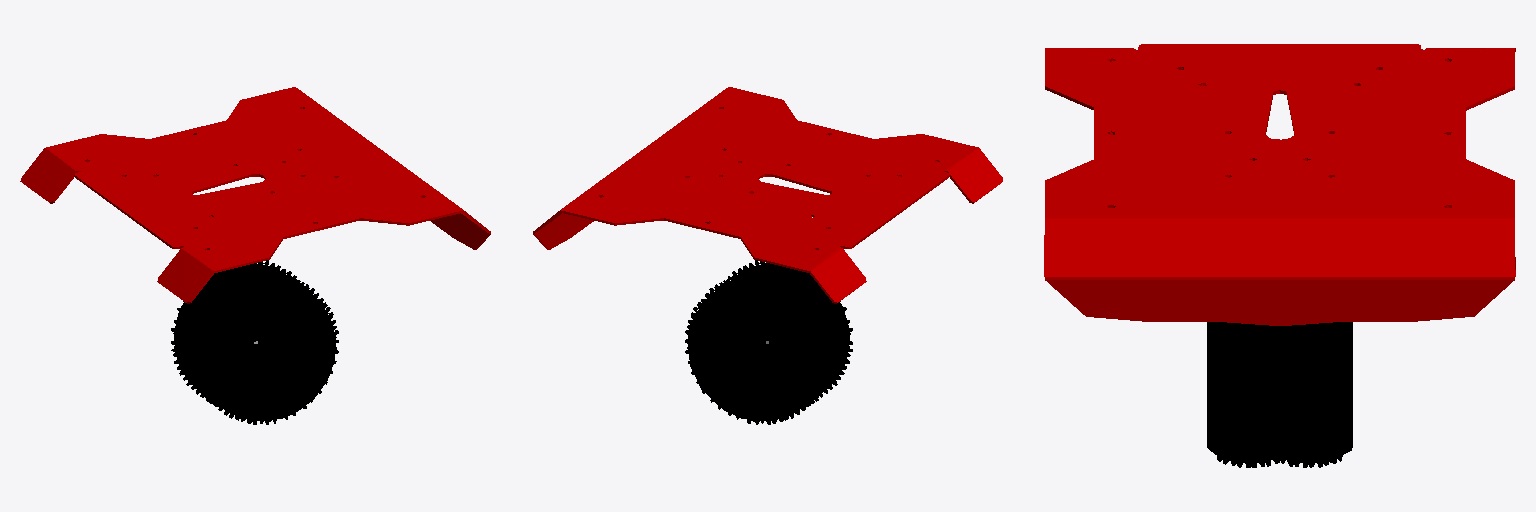
robot.urdf — rosbot:
<?xml version="1.0" ?>
<robot name="rosbot">
  
  <link name="base_link">
    <visual name="base_link_visual">
      <origin rpy=" 1.5707 0 1.5707" xyz="0 0 0.1"/>
      <geometry>
        <mesh filename="package://autopilot/models/upper.dae" scale="0.001 0.001 0.001"/>
      </geometry>
    </visual>
  </link>

  <joint name="front_left_wheel_hinge" type="continuous">
    <!-- <origin rpy="0 0 0" xyz="0.05 0.11 0"/> -->
    <child link="front_left_wheel"/>
    <parent link="base_link"/>
    <!-- <axis rpy="0 0 0" xyz="0 1 0"/> -->
    <!-- <limit effort="1" velocity="10"/> -->
    <!-- <joint_properties damping="5.0" friction="1.0"/> -->
  </joint>

  <link name="front_left_wheel">
    <visual name="front_left_wheel_visual">
      <origin rpy="0 0 1.5707" xyz="0 0 0"/>
      <geometry>
        <mesh filename="package://autopilot/models/wheel.dae" scale="0.001 0.001 0.001"/>
      </geometry>
    </visual>
  </link>

  <joint name="front_right_wheel_hinge" type="continuous">
    <!-- <origin rpy="0 0 0" xyz="0.05 -0.11 0"/> -->
    <child link="front_right_wheel"/>
    <parent link="base_link"/>
    <!-- <axis rpy="0 0 0" xyz="0 1 0"/> -->
    <!-- <limit effort="1" velocity="10"/> -->
    <!-- <joint_properties damping="5.0" friction="1.0"/> -->
  </joint>

  <link name="front_right_wheel">
    <visual name="front_right_wheel_visual">
      <origin rpy="0 0 -1.5707" xyz="0 0 0"/>
      <geometry>
        <mesh filename="package://autopilot/models/wheel.dae" scale="0.001 0.001 0.001"/>
      </geometry>
    </visual>
  </link>

  <joint name="rear_left_wheel_hinge" type="continuous">
    <!-- <origin rpy="0 0 0" xyz="-0.055 0.11 0"/> -->
    <child link="rear_left_wheel"/>
    <parent link="base_link"/>
    <!-- <axis rpy="0 0 0" xyz="0 1 0"/>
    <limit effort="1" velocity="10"/>
    <joint_properties damping="5.0" friction="1.0"/> -->
  </joint>

  <link name="rear_left_wheel">
    <visual name="rear_left_wheel_visual">
      <origin rpy="0 0 1.5707" xyz="0 0 0"/>
      <geometry>
        <mesh filename="package://autopilot/models/wheel.dae" scale="0.001 0.001 0.001"/>
      </geometry>
    </visual>
  </link>

  <joint name="rear_right_wheel_hinge" type="continuous">
    <!-- <origin rpy="0 0 0" xyz="-0.055 -0.11 0"/> -->
    <child link="rear_right_wheel"/>
    <parent link="base_link"/>
    <!-- <axis rpy="0 0 0" xyz="0 1 0"/>
    <limit effort="1" velocity="10"/>
    <joint_properties damping="5.0" friction="1.0"/> -->
  </joint>

  <link name="rear_right_wheel">
    <visual name="rear_right_wheel_visual">
      <origin rpy="0 0 -1.5707" xyz="0 0 0"/>
      <geometry>
        <mesh filename="package://autopilot/models/wheel.dae" scale="0.001 0.001 0.001"/>
      </geometry>
    </visual>
  </link>

</robot>

--- Render facts (derived) ---
The picture shows the robot from 3 angles, left to right: view 1: azimuth 30°, elevation 25°; view 2: azimuth 150°, elevation 25°; view 3: azimuth 270°, elevation 25°; orthographic projection.
Robot: rosbot — 5 links, 4 joints (4 continuous); root link base_link; default pose: all joints at 0.
Visible links, largest first — view 1: base_link, front_left_wheel, front_right_wheel; view 2: base_link, front_right_wheel, front_left_wheel; view 3: base_link, front_left_wheel, front_right_wheel.
Boxes of the visible links, left/top/right/bottom form: base_link: left=20, top=87, right=490, bottom=303; front_left_wheel: left=191, top=273, right=338, bottom=424; front_right_wheel: left=171, top=260, right=304, bottom=404; base_link: left=533, top=87, right=1002, bottom=303; front_right_wheel: left=685, top=273, right=832, bottom=424; front_left_wheel: left=719, top=260, right=852, bottom=403; base_link: left=1044, top=44, right=1515, bottom=325; front_left_wheel: left=1207, top=322, right=1285, bottom=467; front_right_wheel: left=1274, top=322, right=1352, bottom=467.
Bounding box of the posed robot: 0.1975 × 0.19 × 0.145 m (x, y, z).
Meshes: 2 distinct files referenced, 5 mesh visuals loaded (2 Collada DAE).